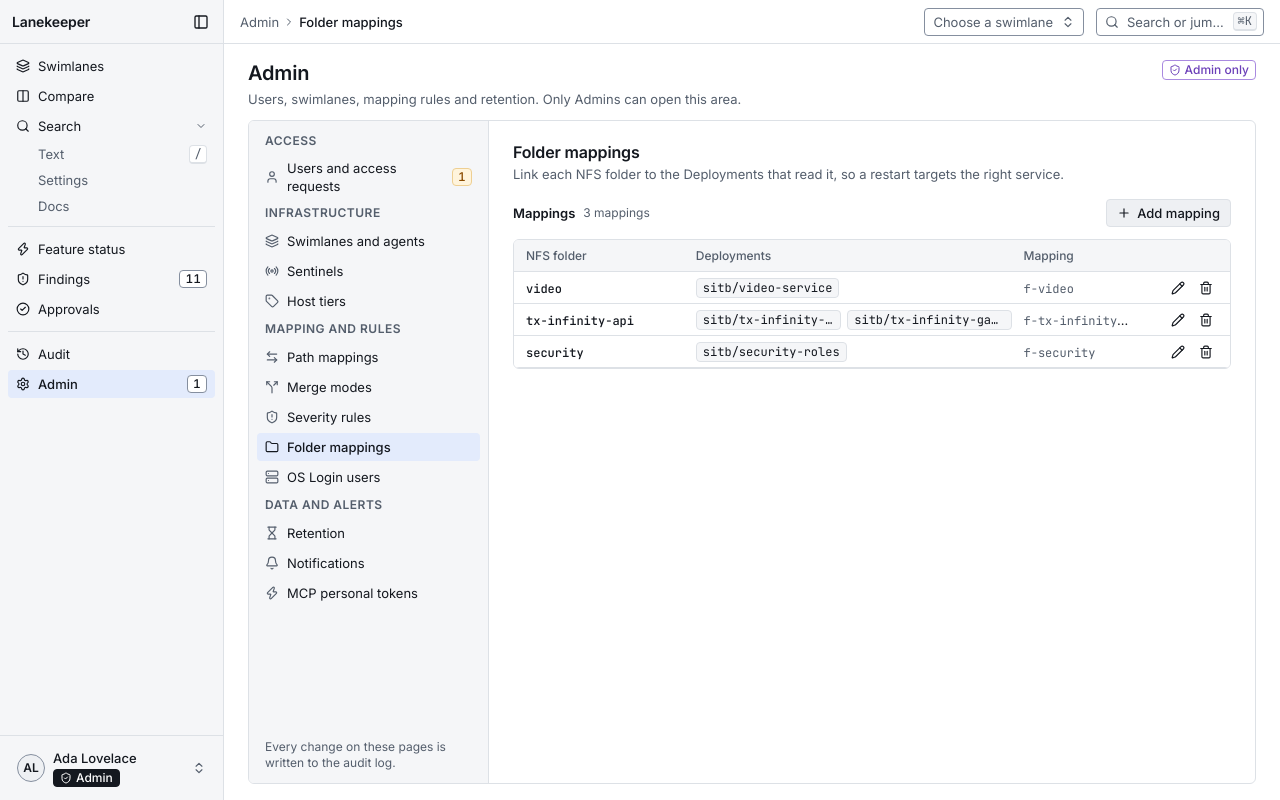
adding, changing and deleting › deletes a mapping after saying that a restart no longer targets those Deployments
Expected: the heading "Admin" is shown, x1=248 y1=61 x2=309 y2=85
Click the button named "Delete mapping f-security".
click(1206, 352)  # box x1=1194 y1=340 x2=1218 y2=364
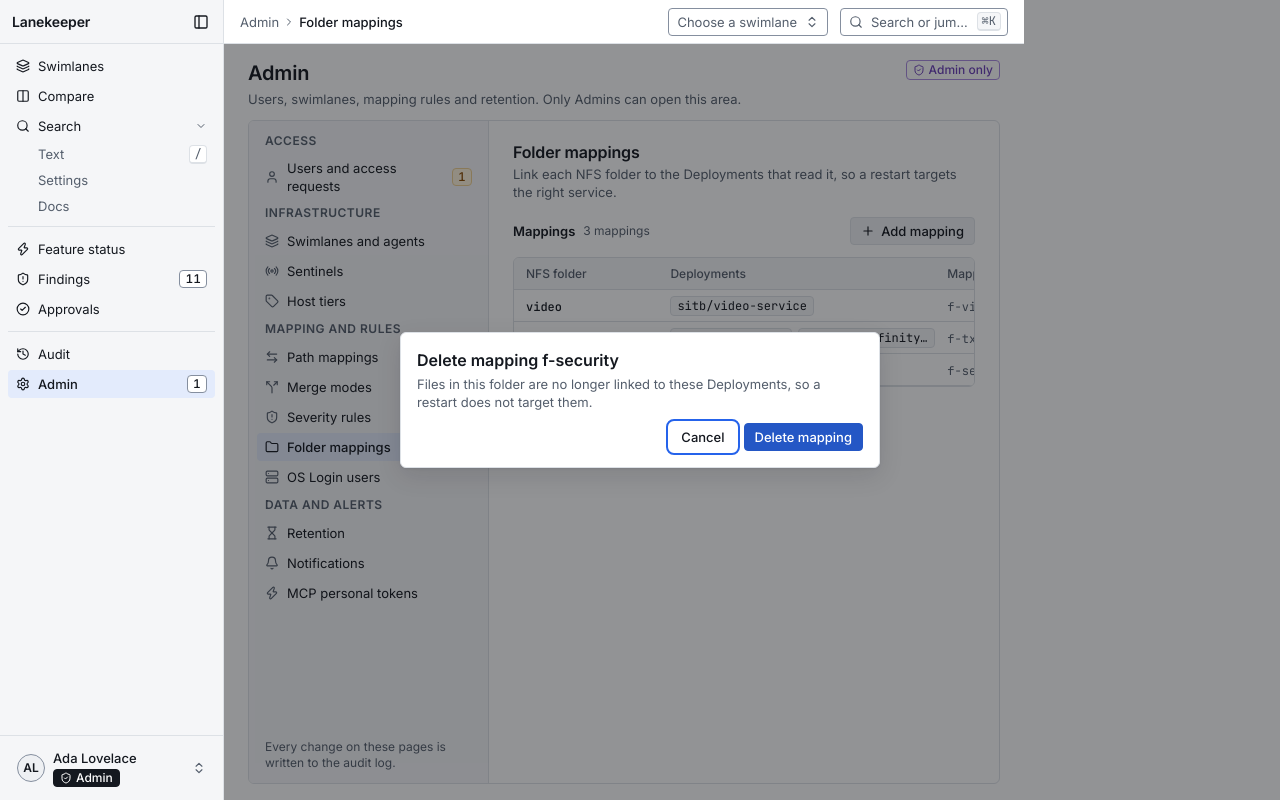
Expected: the text "a restart does not target them" is shown, x1=417 y1=376 x2=820 y2=410
Click the button "Delete mapping".
click(803, 437)  # box x1=744 y1=423 x2=863 y2=451
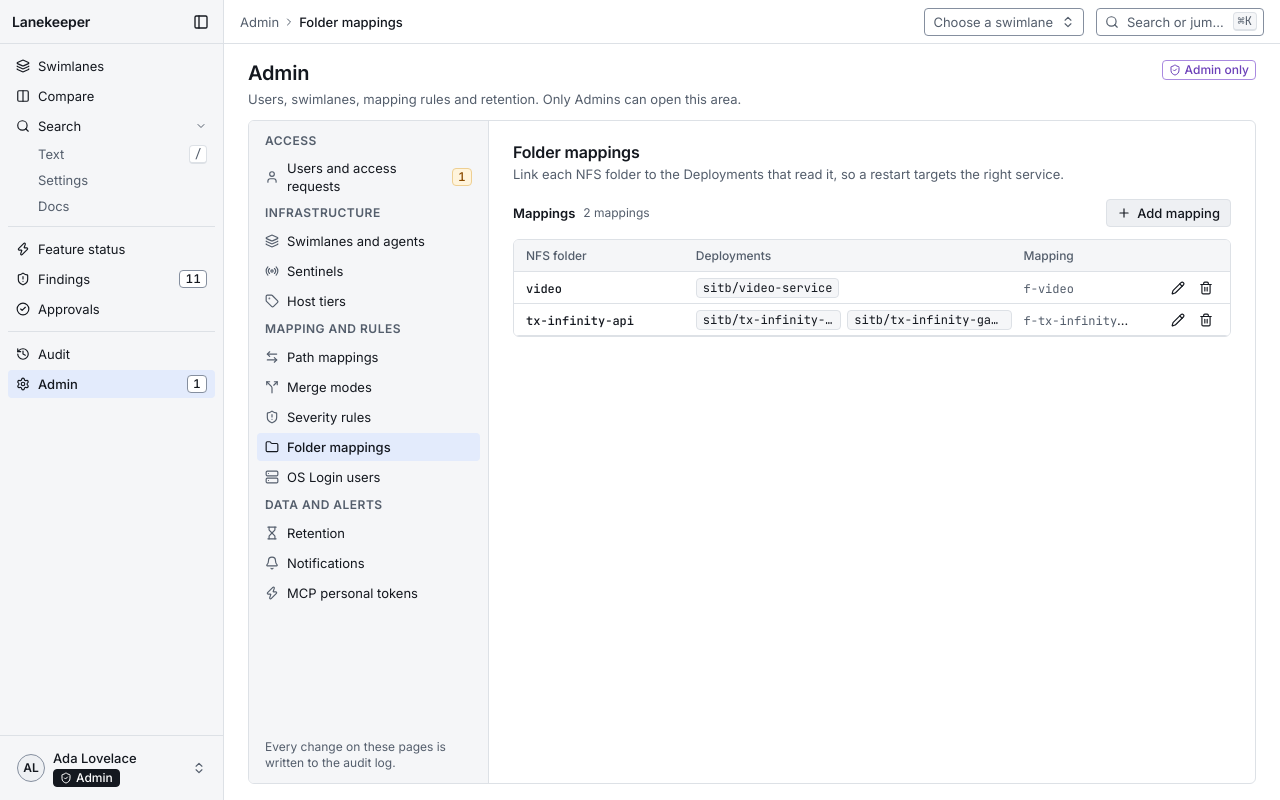
Expected: the dialog is gone
Expected: the text "2 mappings" is shown, x1=583 y1=205 x2=650 y2=221
